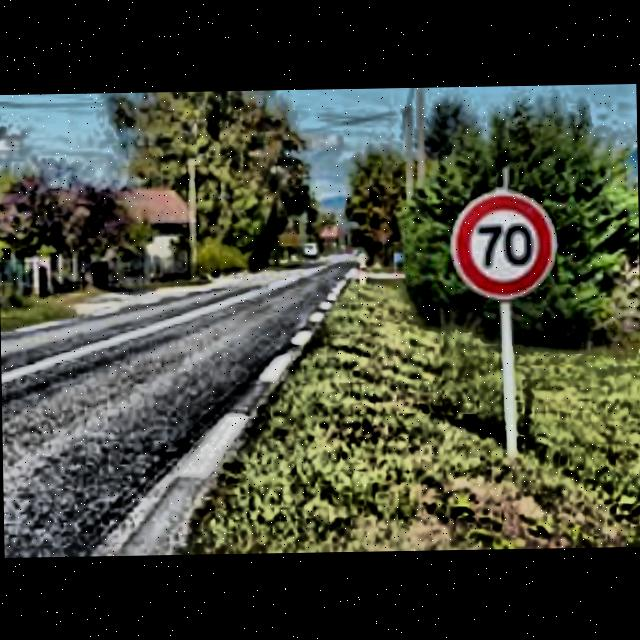speed_70: (452, 190, 558, 300)
